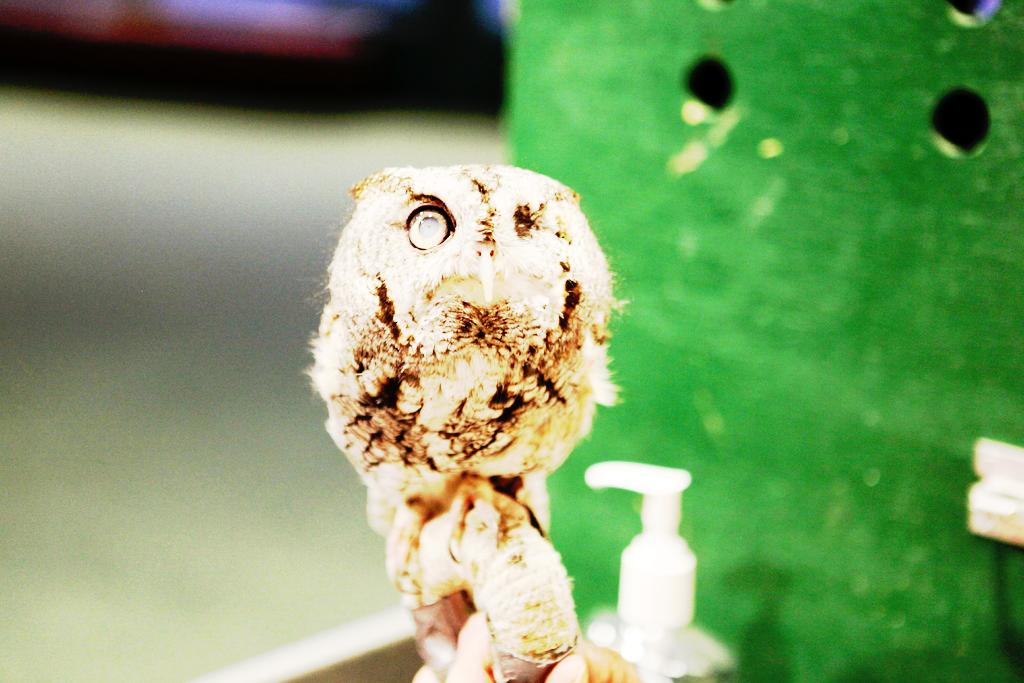Owl: (306, 159, 614, 601)
